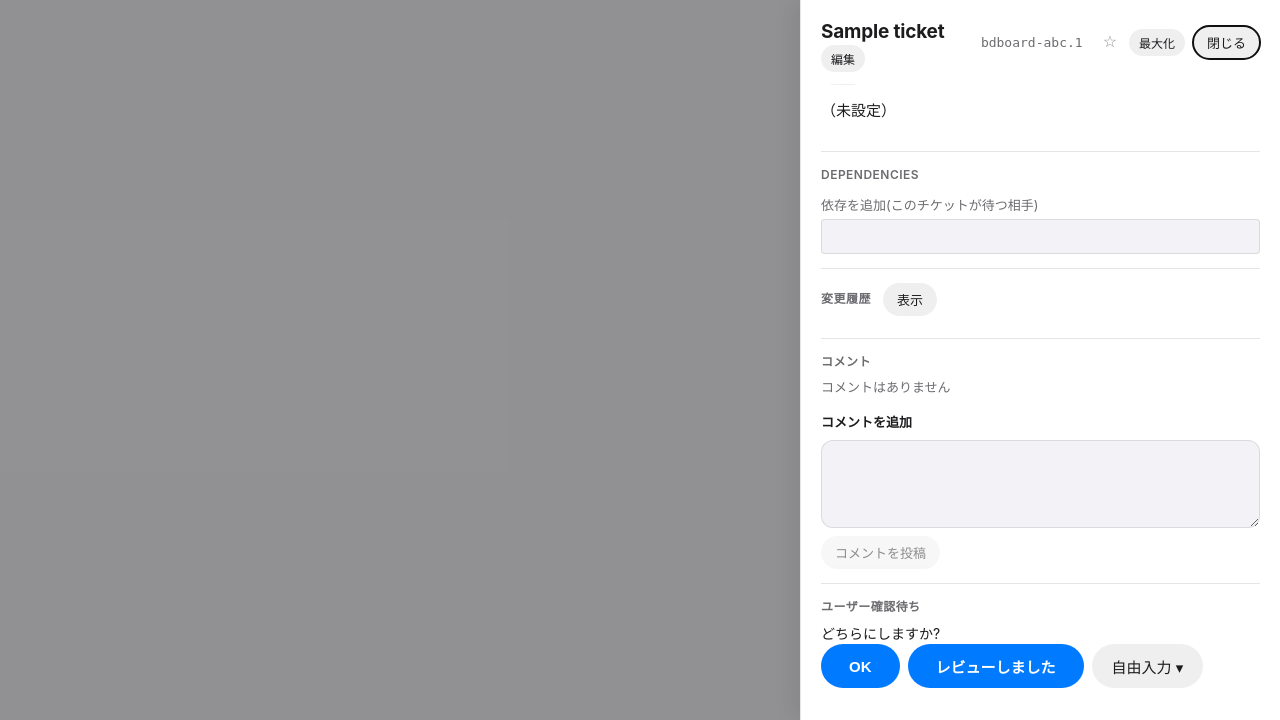
Test: TicketDetailPanel pending decisions › posts "OK" immediately when the OK button is tapped
(page scrolled)
Click the button "OK".
click(860, 666)  # box [821,644,900,688]
(page scrolled)
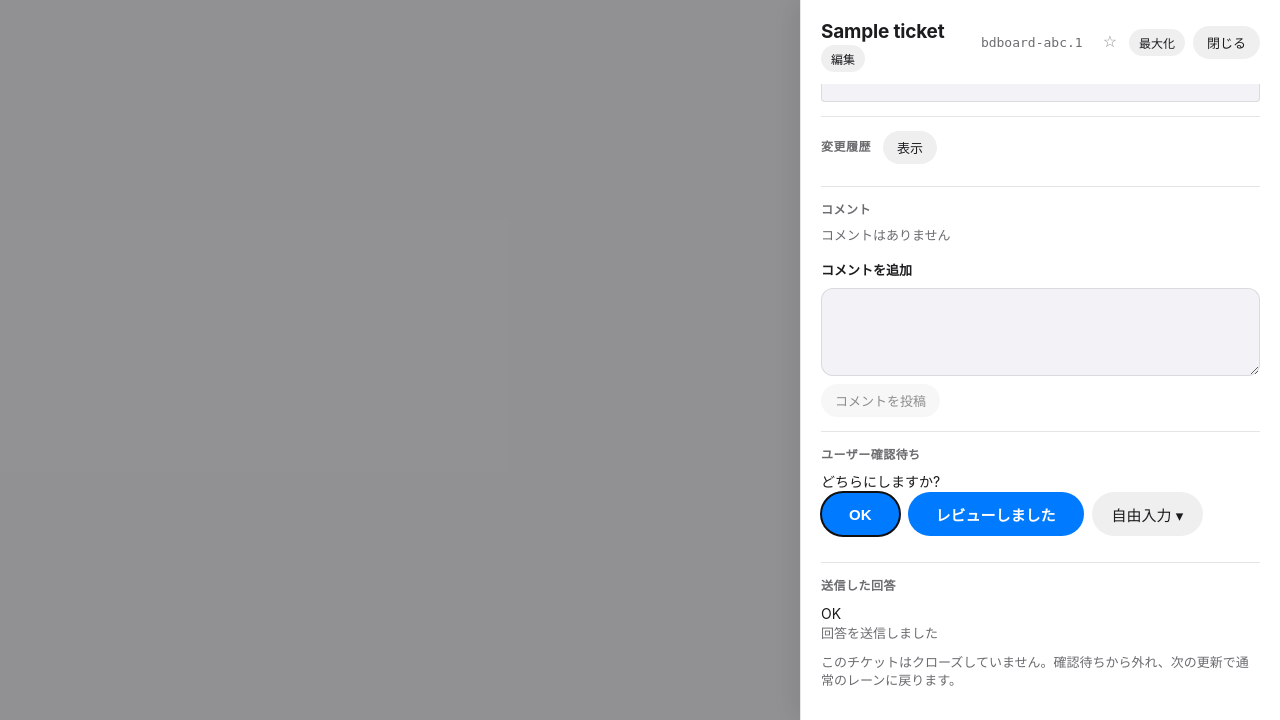
Expected: the heading "送信した回答" is shown, [821,578,896,593]
